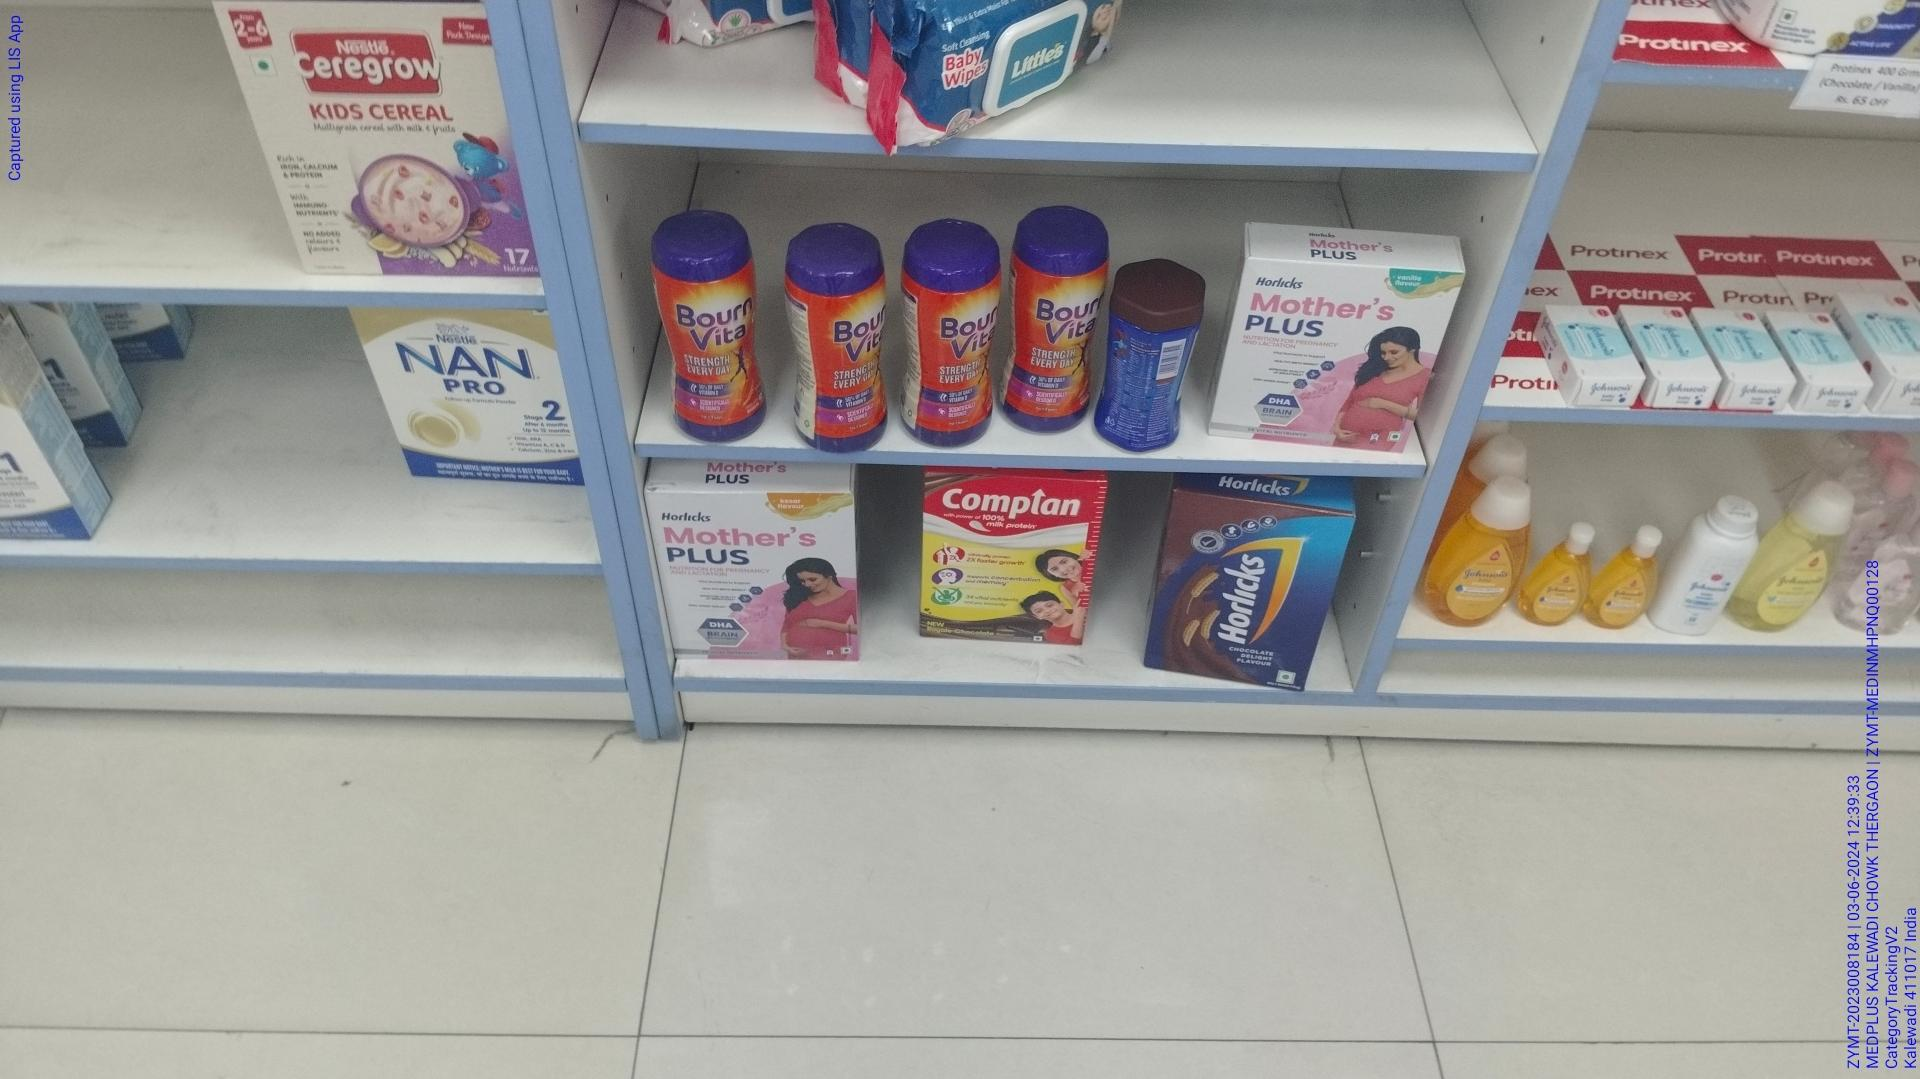BOURN_VITA_500_G_JAR: (654, 208, 766, 445), (913, 212, 1000, 448), (1014, 206, 1104, 433), (806, 224, 889, 452)
